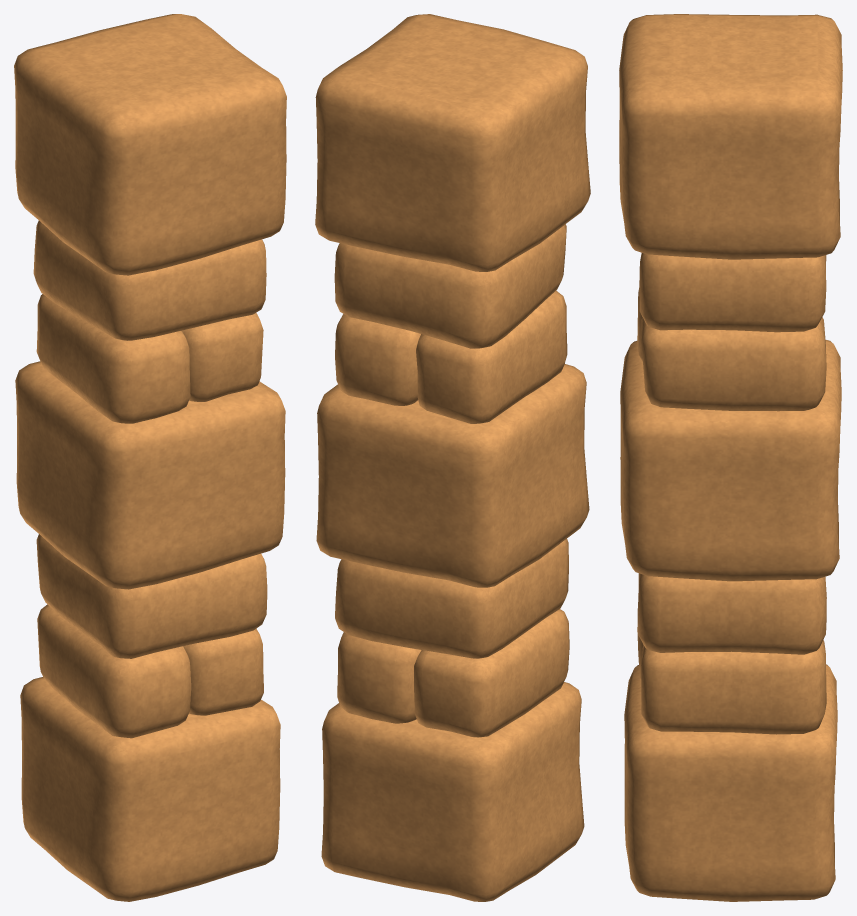
Rendered from pillar_a.fbx.
The picture shows the model from 3 angles, left to right: view 1: azimuth 30°, elevation 25°; view 2: azimuth 150°, elevation 25°; view 3: azimuth 270°, elevation 25°; orthographic projection. The views are drawn at different scales.
Visible parts, largest first — view 1: large_stone_block_B.017; view 2: large_stone_block_B.017; view 3: large_stone_block_B.017.
Boxes of the visible parts, x1,y1,x2,y2 form: large_stone_block_B.017: (14, 14, 286, 901); large_stone_block_B.017: (315, 14, 590, 901); large_stone_block_B.017: (619, 14, 842, 901).
Bounding box in the file's own units: 1 × 4.05 × 1.01.
